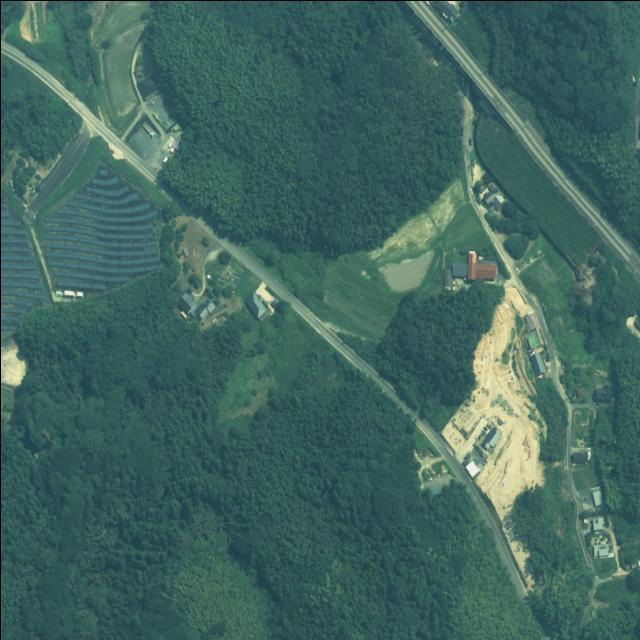landslide: (443, 298, 544, 520)
